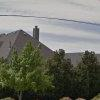Chimney: (27, 23, 50, 49)
